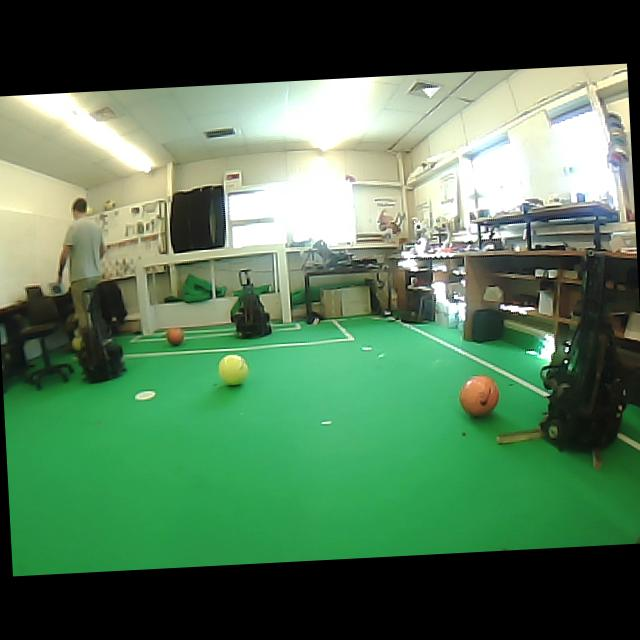ball: (460, 375, 498, 416), (218, 354, 248, 385), (167, 327, 184, 345), (71, 329, 84, 351), (104, 200, 115, 209)
goal: (276, 244, 291, 323), (137, 267, 153, 335)
robot: (541, 252, 626, 450), (79, 319, 126, 383), (232, 270, 271, 338)
